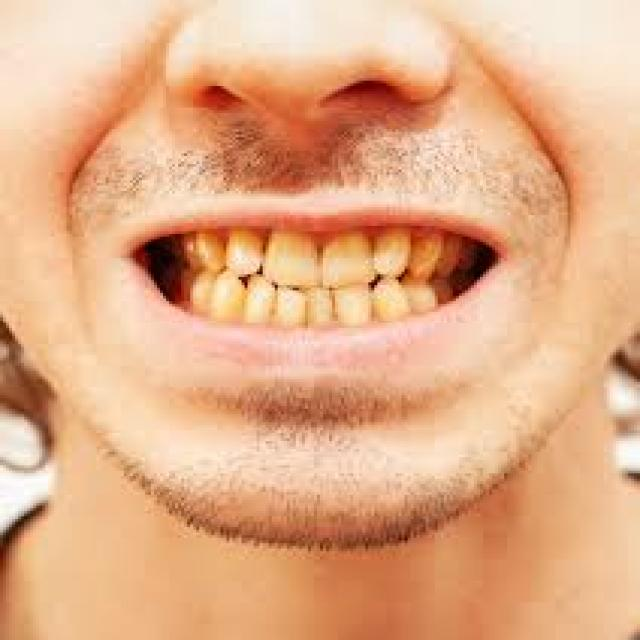tooth: (420, 232, 480, 282), (266, 236, 320, 288), (326, 231, 374, 288), (181, 272, 239, 317), (380, 282, 444, 312), (172, 236, 223, 272), (227, 234, 266, 280), (368, 231, 411, 272), (245, 280, 278, 330), (272, 288, 308, 328), (335, 290, 368, 328), (308, 293, 329, 331)
